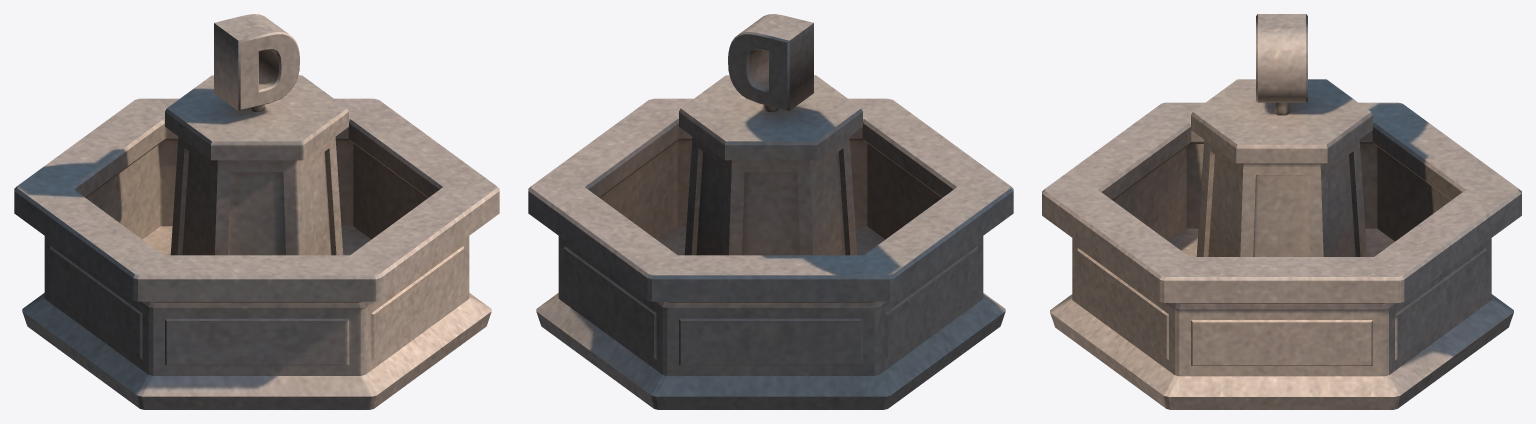
The model's file is DFountain.FBX.
3 renders of one model, left to right at view 1: azimuth 30°, elevation 25°; view 2: azimuth 150°, elevation 25°; view 3: azimuth 270°, elevation 25°, orthographic.
Parts seen in each view (by area): view 1: DFountain; view 2: DFountain; view 3: DFountain.
Part boxes in pixels (x1,y1,x2,y2): DFountain: (14, 14, 499, 409); DFountain: (528, 14, 1013, 409); DFountain: (1042, 14, 1521, 409).
Bounding box in the file's own units: 19.8 × 15.55 × 22.72.
1 material, 1 textured.
